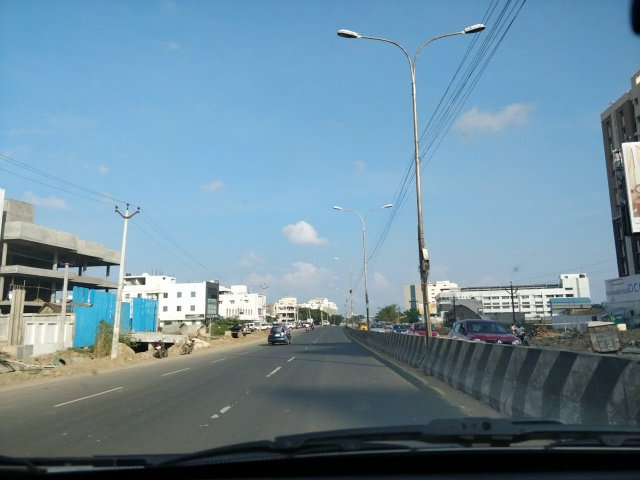car: (448, 316, 522, 383), (408, 321, 438, 347), (265, 323, 295, 344), (392, 324, 407, 340)
motorbike: (155, 330, 171, 359), (180, 336, 198, 354)
